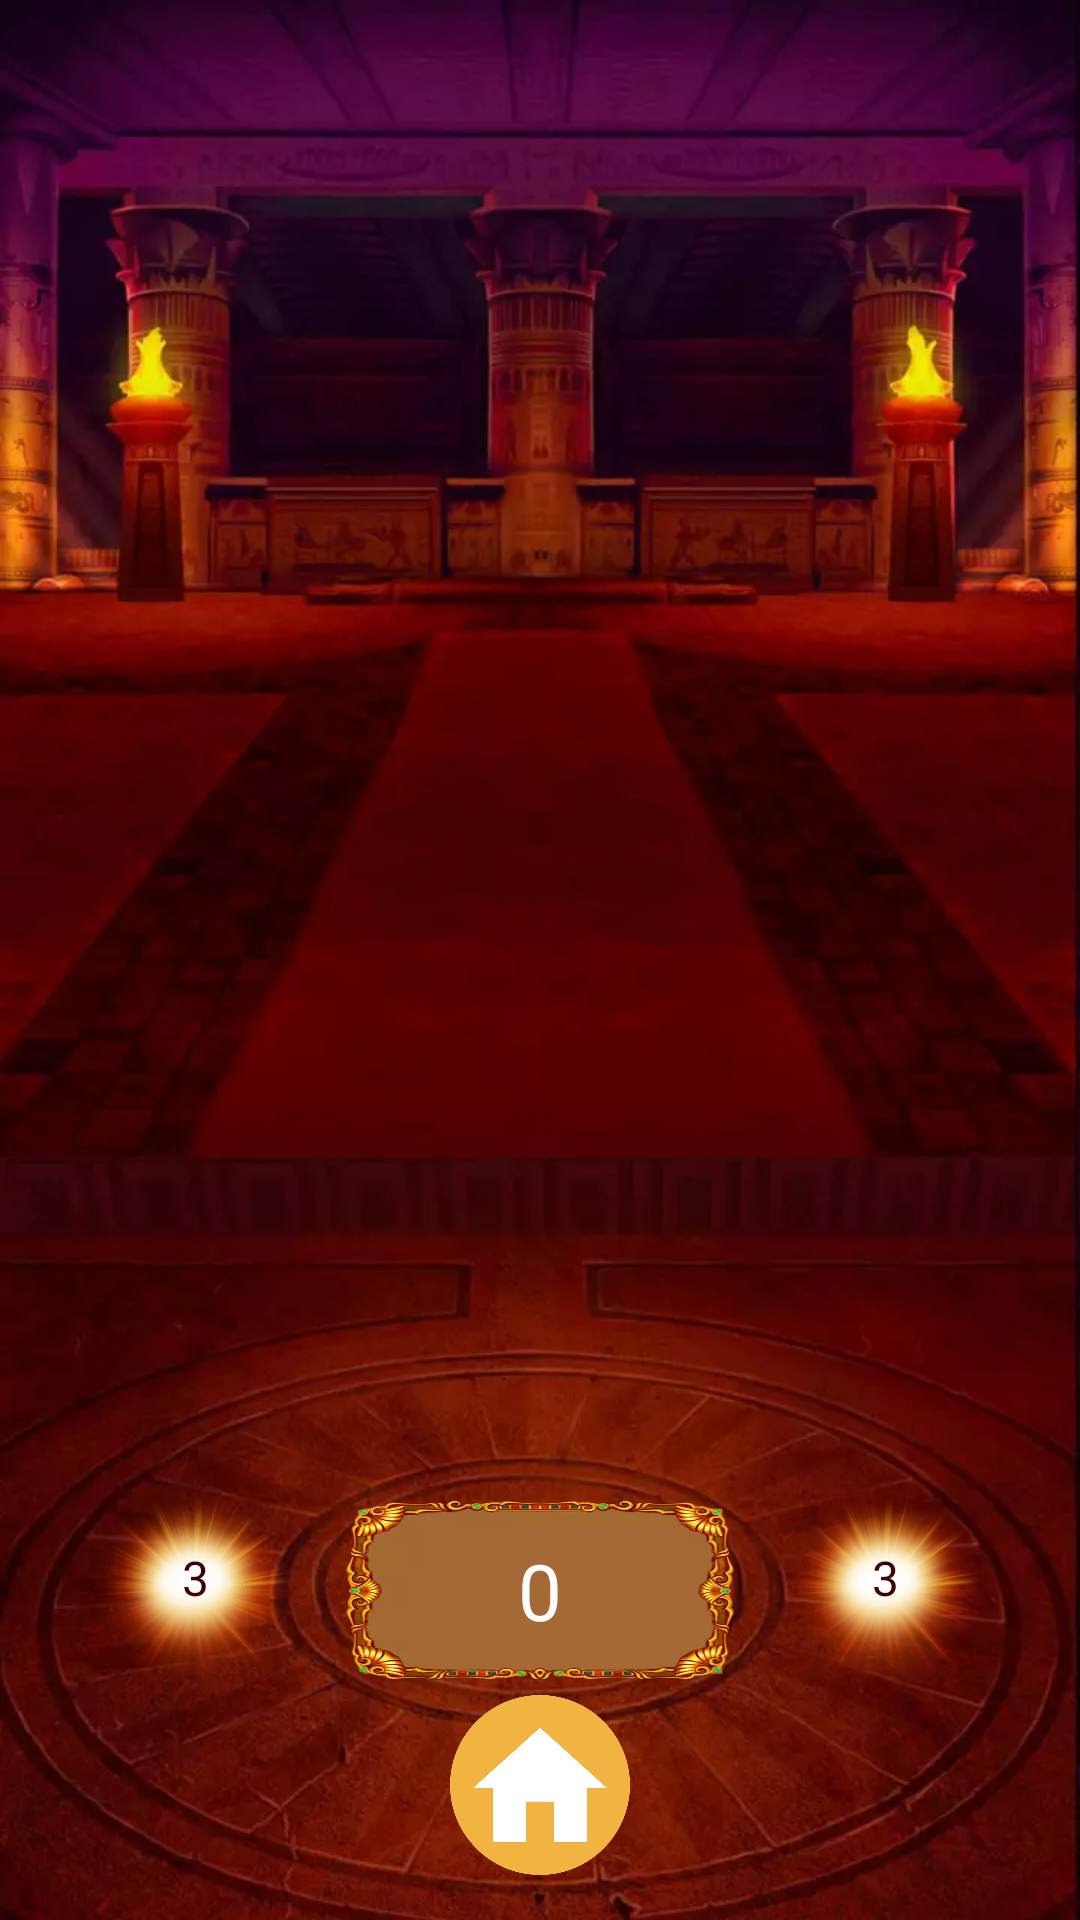

Named icons in this screenshot (1080*1920) and their bounding boxes, (x1, y1, x2, y2):
Navigate to menu: (450, 1695, 630, 1875)
